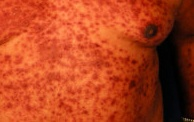SJS-TEN: (0, 0, 176, 122)
